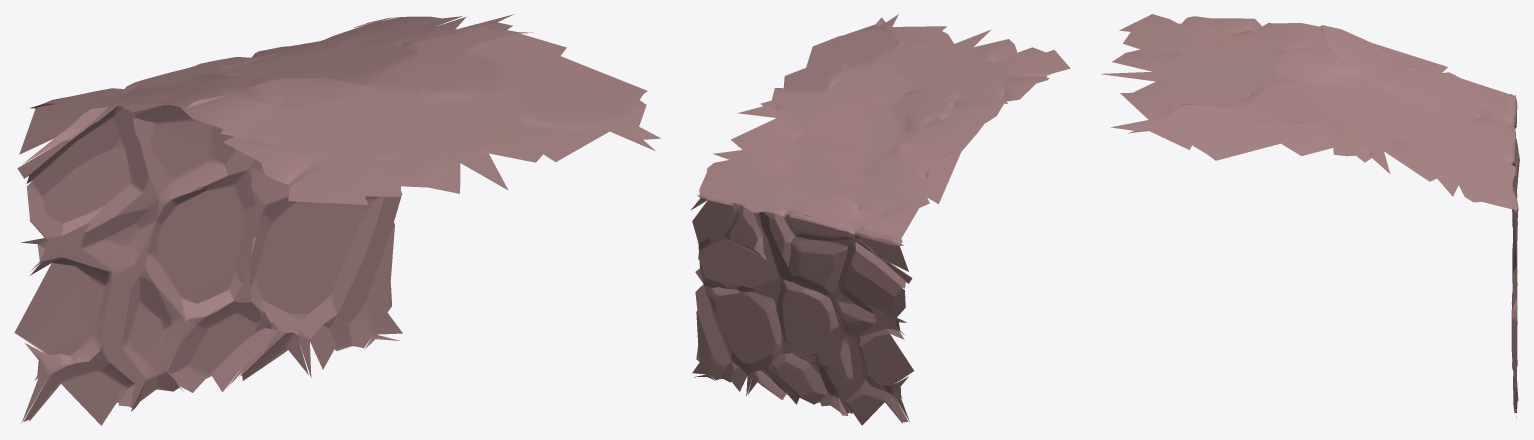
File: plateau.fbx_Rock_Plateau_012LODs.fbx
3 renders of one model, left to right at view 1: azimuth 30°, elevation 25°; view 2: azimuth 150°, elevation 25°; view 3: azimuth 270°, elevation 25°, orthographic. The views are drawn at different scales.
Visible parts, largest first — view 1: Rock Plateau.012_LOD0; view 2: Rock Plateau.012_LOD0; view 3: Rock Plateau.012_LOD0.
Boxes of the visible parts, x1,y1,x2,y2 form: Rock Plateau.012_LOD0: [14, 14, 660, 425]; Rock Plateau.012_LOD0: [690, 14, 1070, 425]; Rock Plateau.012_LOD0: [1101, 14, 1519, 417].
Size of what is drawn, in the model's own units: 3800 by 4034 by 5170.
